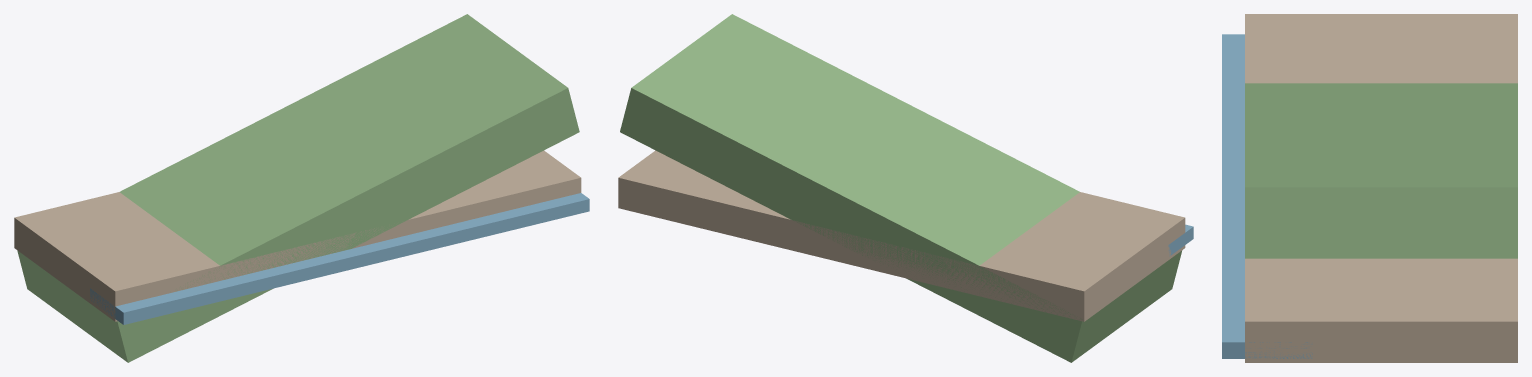
The model's file is waterfront_bank.glb.
The picture shows the model from 3 angles, left to right: view 1: azimuth 30°, elevation 25°; view 2: azimuth 150°, elevation 25°; view 3: azimuth 270°, elevation 25°; orthographic projection. The views are drawn at different scales.
Visible parts, largest first — view 1: slope, bank, water; view 2: slope, bank; view 3: slope, bank, water.
Part boxes in pixels (box(x1,y1,x2,y2)): slope: box(17, 14, 579, 362); bank: box(14, 150, 581, 321); water: box(90, 193, 589, 324); slope: box(620, 14, 1182, 362); bank: box(618, 150, 1185, 321); slope: box(1245, 83, 1517, 258); bank: box(1245, 14, 1517, 362); water: box(1222, 34, 1312, 358).
Size of the model in its own units: 16 by 5.5 by 6.5.
